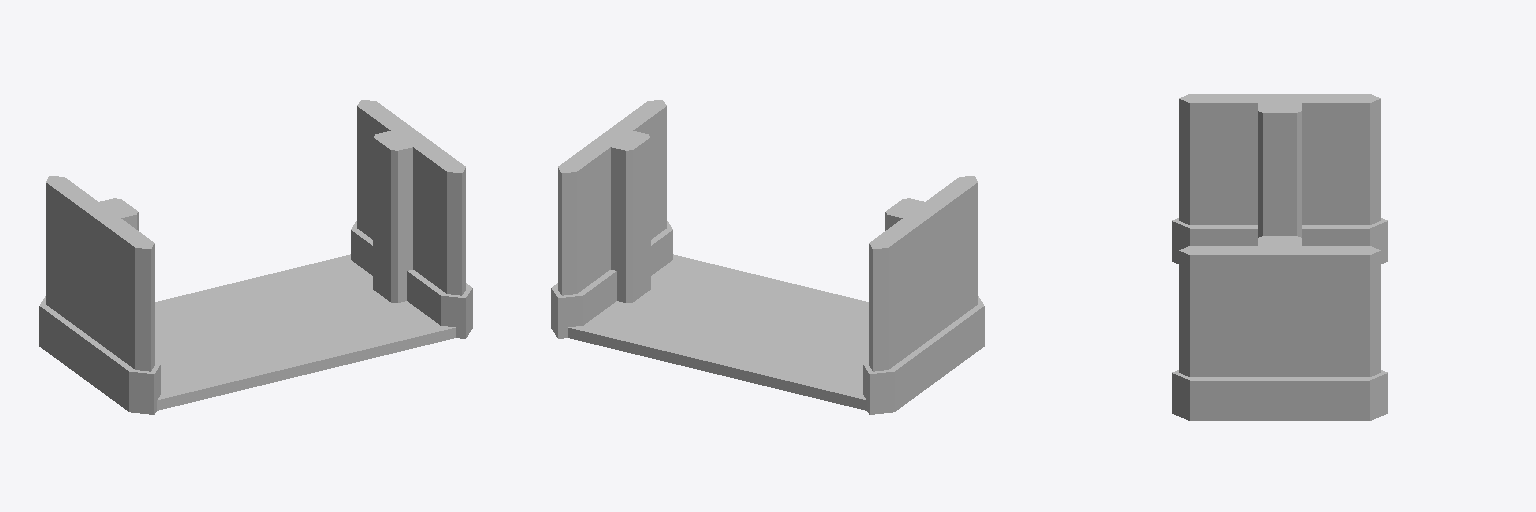
The model's file is hallway_short_01.obj.
3 renders of one model, left to right at view 1: azimuth 30°, elevation 25°; view 2: azimuth 150°, elevation 25°; view 3: azimuth 270°, elevation 25°, orthographic.
Parts seen in each view (by area): view 1: floor_04_90, wall_02_95, wall_02_96; view 2: floor_04_90, wall_02_95, wall_02_96; view 3: wall_02_96, wall_02_95.
Part boxes in pixels (bbox=[...]): floor_04_90: bbox=[155, 254, 455, 410]; wall_02_95: bbox=[39, 176, 160, 414]; wall_02_96: bbox=[351, 100, 472, 338]; floor_04_90: bbox=[568, 254, 868, 410]; wall_02_95: bbox=[863, 176, 984, 414]; wall_02_96: bbox=[551, 100, 672, 338]; wall_02_96: bbox=[1172, 236, 1387, 420]; wall_02_95: bbox=[1172, 94, 1387, 263].
Size of the model in its own units: 2.21 by 1 by 1.21.